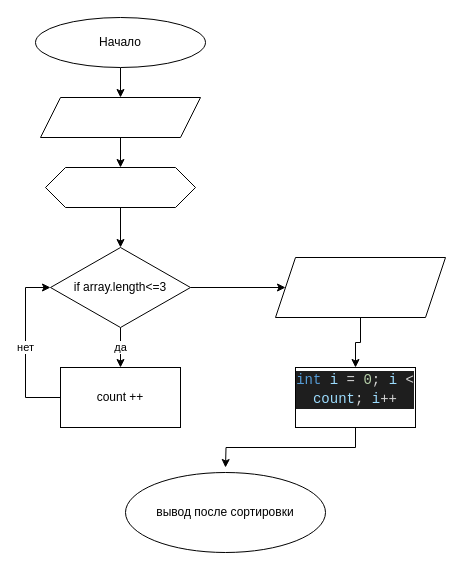
This 463x570 diagram has some shape labels left out. Each missing label, with the centre of its shape:
"Array[]" goes at (120,117).
"arrayNew[]" goes at (360,287).
"count = 0" goes at (120,187).
